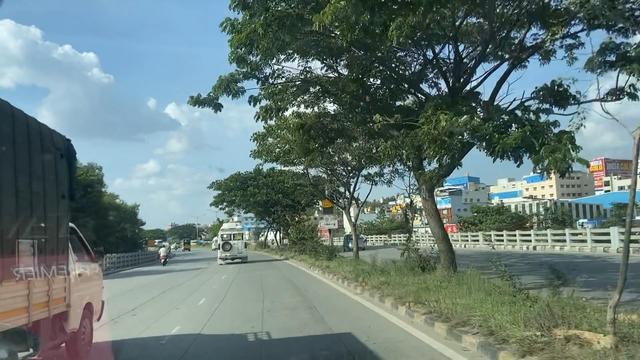HMV: (4, 110, 102, 354), (215, 226, 250, 262)
